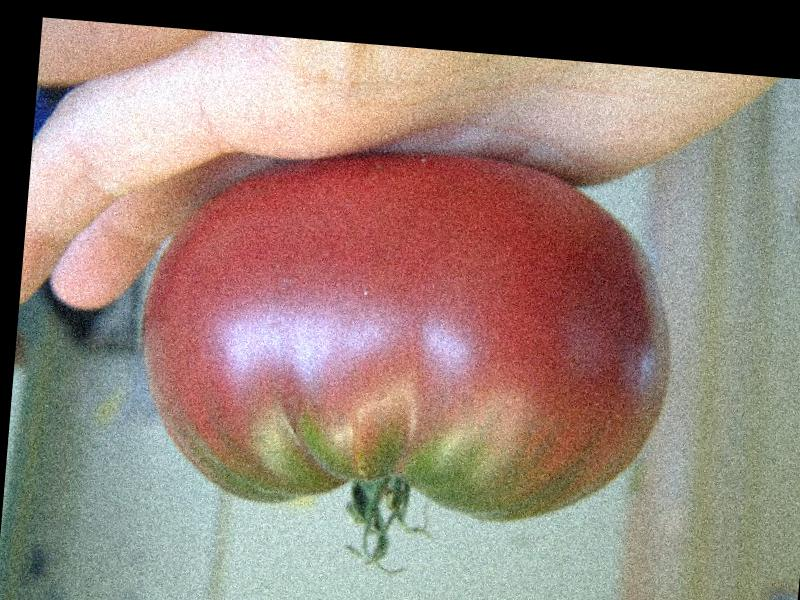Tomato: (129, 130, 685, 535)
